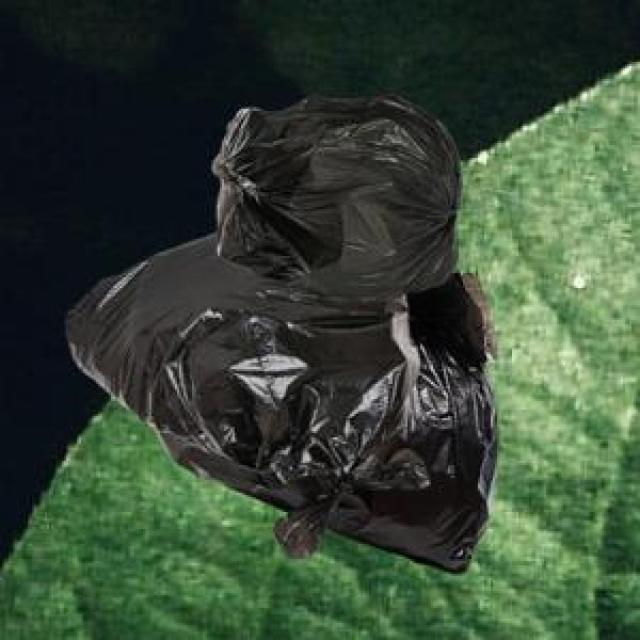Vinyl: (68, 98, 496, 571)
